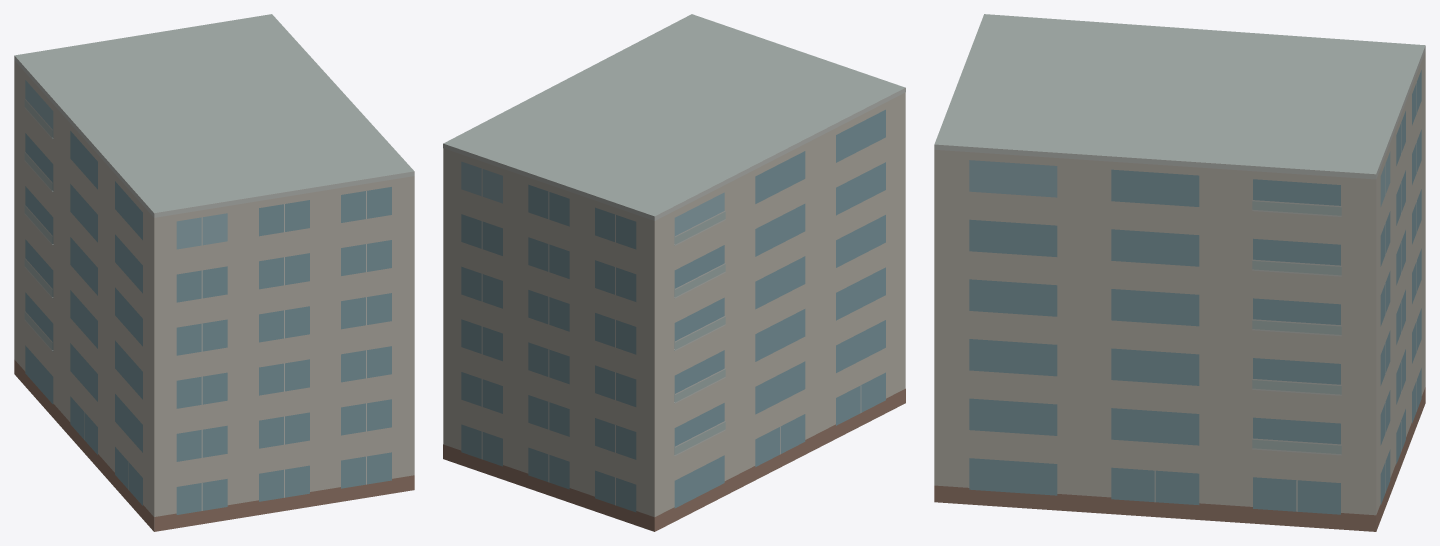
Rendered from survey-upis-33024502.glb.
The picture shows the model from 3 angles, left to right: view 1: azimuth 30°, elevation 25°; view 2: azimuth 150°, elevation 25°; view 3: azimuth 270°, elevation 25°; orthographic projection. The views are drawn at different scales.
Parts seen in each view (by area): view 1: survey-upis-33024502.tmp; view 2: survey-upis-33024502.tmp; view 3: survey-upis-33024502.tmp.
Part boxes in pixels (<box>): survey-upis-33024502.tmp: <box>14,14,414,531</box>; survey-upis-33024502.tmp: <box>443,14,905,531</box>; survey-upis-33024502.tmp: <box>934,14,1425,531</box>.
Bounding box in the file's own units: 15.96 × 16.6 × 20.68.
